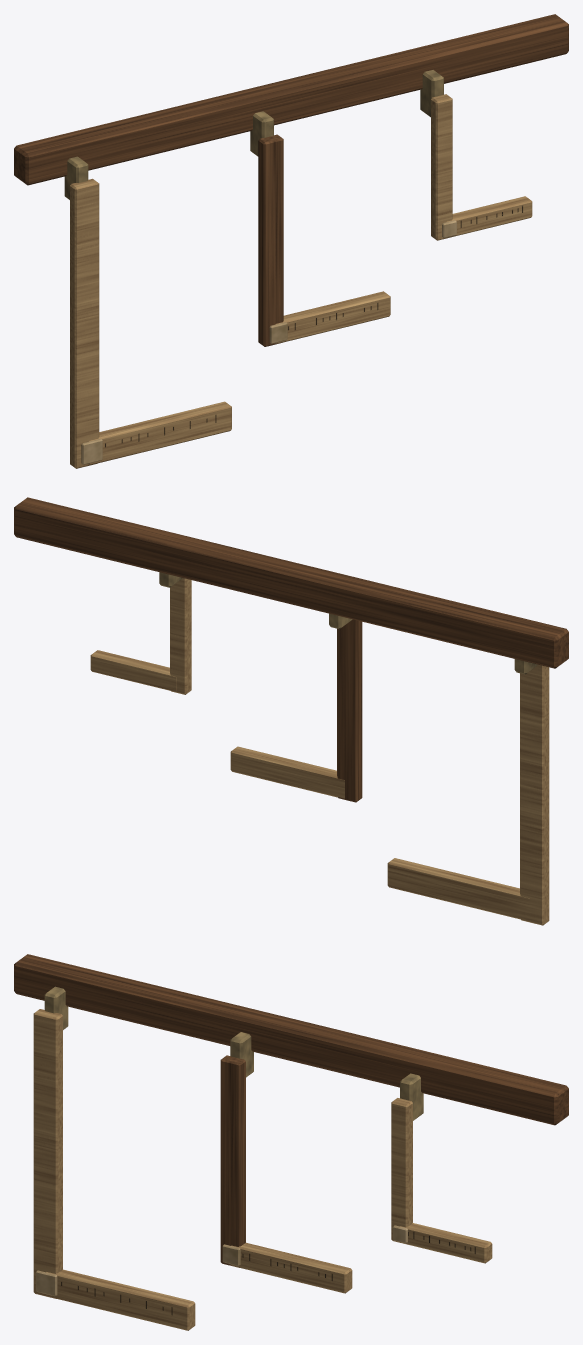
File: WestWallSquares_LOD0.fbx
3 renders of one model, top to bottom at view 1: azimuth 30°, elevation 25°; view 2: azimuth 150°, elevation 25°; view 3: azimuth 330°, elevation 25°, orthographic.
Visible parts, largest first — view 1: WestWallSquares; view 2: WestWallSquares; view 3: WestWallSquares.
Boxes of the visible parts, x1,y1,x2,y2 form: WestWallSquares: [14, 14, 568, 468]; WestWallSquares: [14, 497, 568, 925]; WestWallSquares: [14, 954, 568, 1330].
Size of the model in its own units: 1.09 by 0.5995 by 0.113.
1 material, 1 textured.
